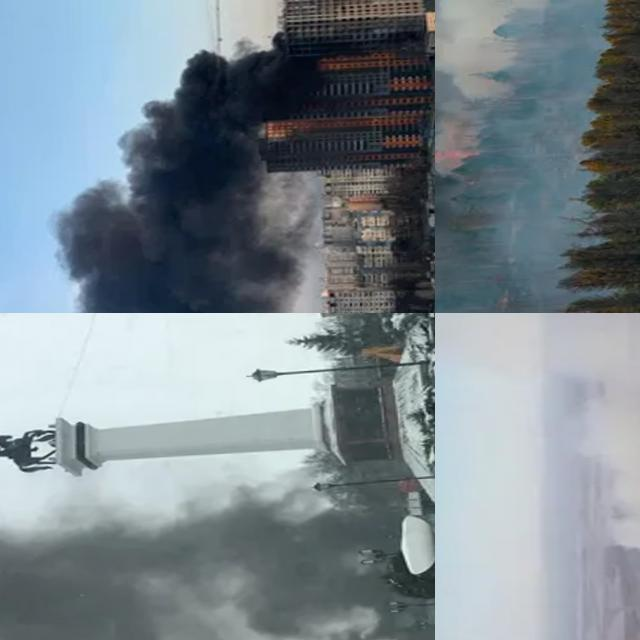smoke: (38, 31, 323, 313), (0, 478, 405, 640)
